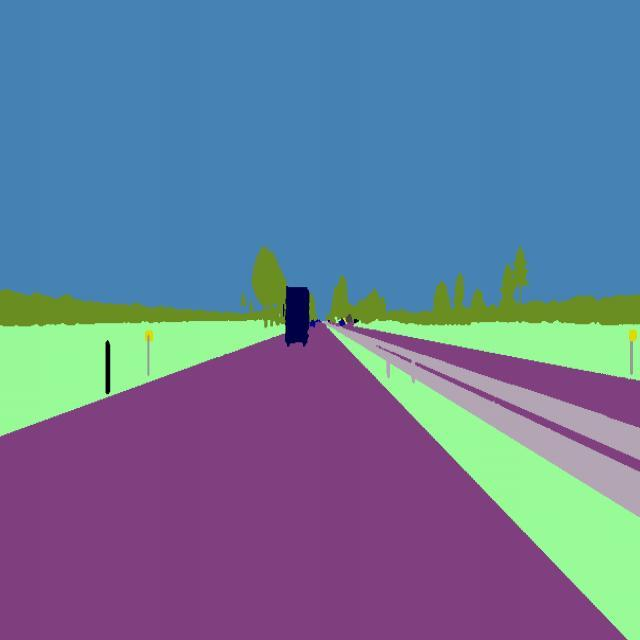safe: (282, 284, 310, 350)
